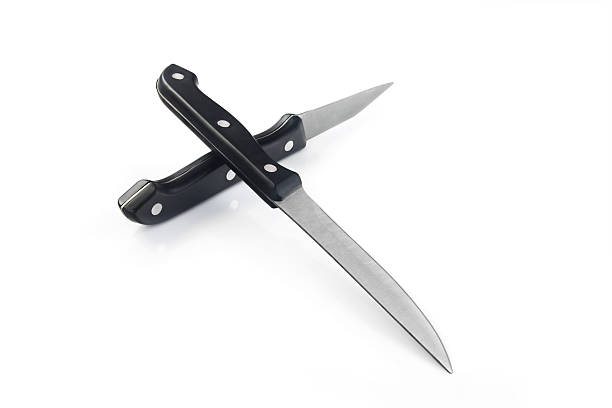knife: (155, 62, 456, 377), (115, 79, 397, 227)
